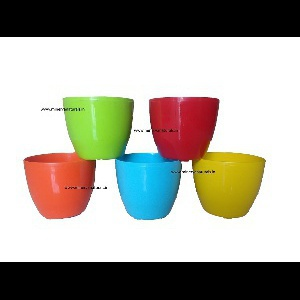flowerpot: (23, 150, 101, 218), (192, 151, 266, 218), (62, 93, 133, 162), (112, 152, 183, 221), (148, 96, 221, 163)
